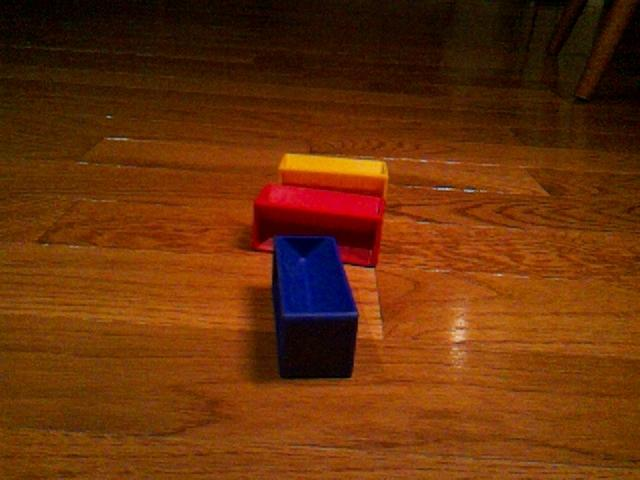blue: (273, 236, 360, 381)
red: (253, 185, 386, 268)
yellow: (279, 154, 390, 203)
